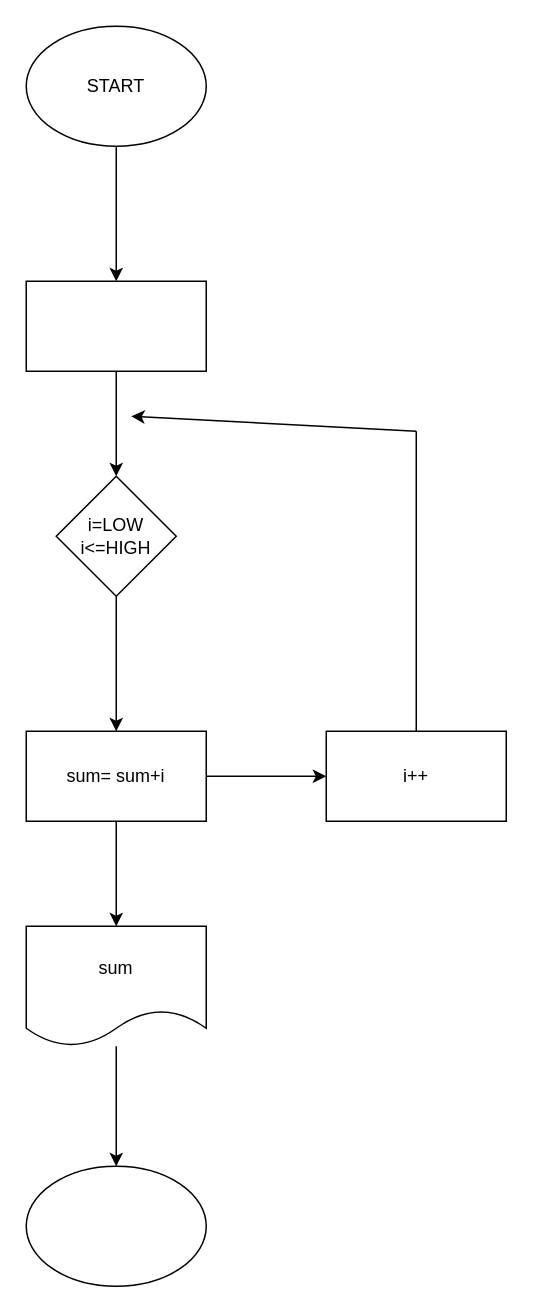
This 533x1313 diagram has some shape labels left out. Here are the shapes that lost their labels. From the top down, the centre of each, then its label:
At point 115,325: "LOW=3 HIGH=9 sum=0".
At point 115,1225: "END".
